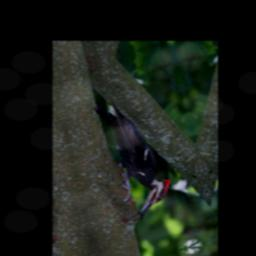Woodpecker: (92, 86, 177, 224)
